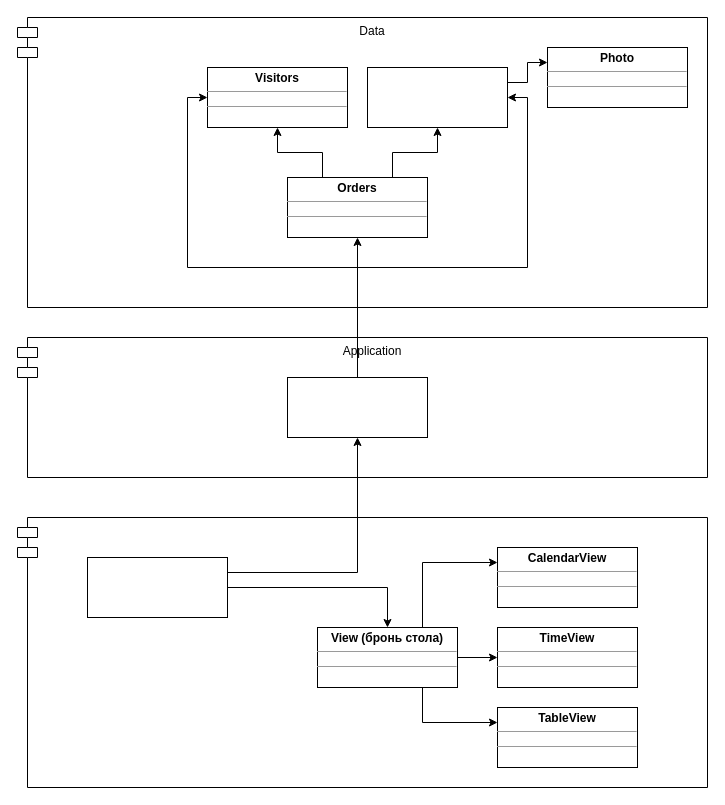
The diagram is 725 pixels wide and 805 high, and some of its shapes have lost their labels. Each missing label, with the box of its shape:
OrderService: (286, 376, 428, 438)
Presentation: (16, 516, 708, 788)
Presenter: (86, 556, 228, 618)
Tables: (366, 66, 508, 128)
